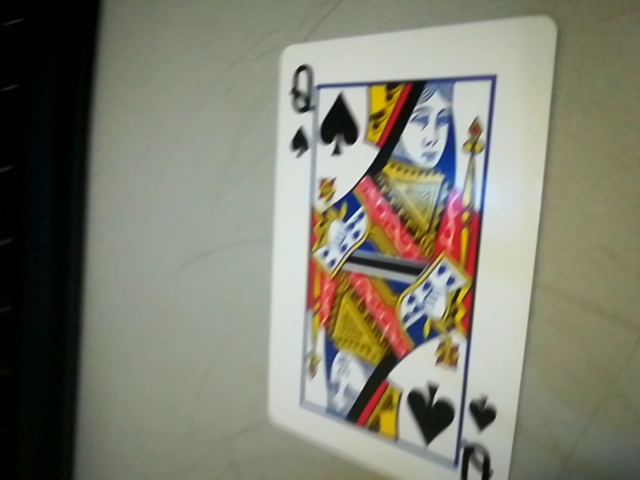ht q: (279, 58, 324, 159)
